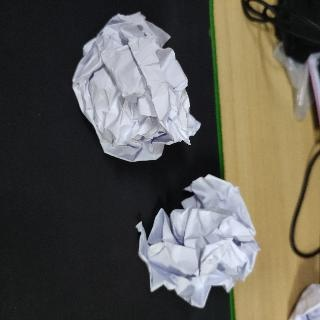8/可回收垃圾/纸: (72, 10, 202, 163), (136, 173, 260, 309)
